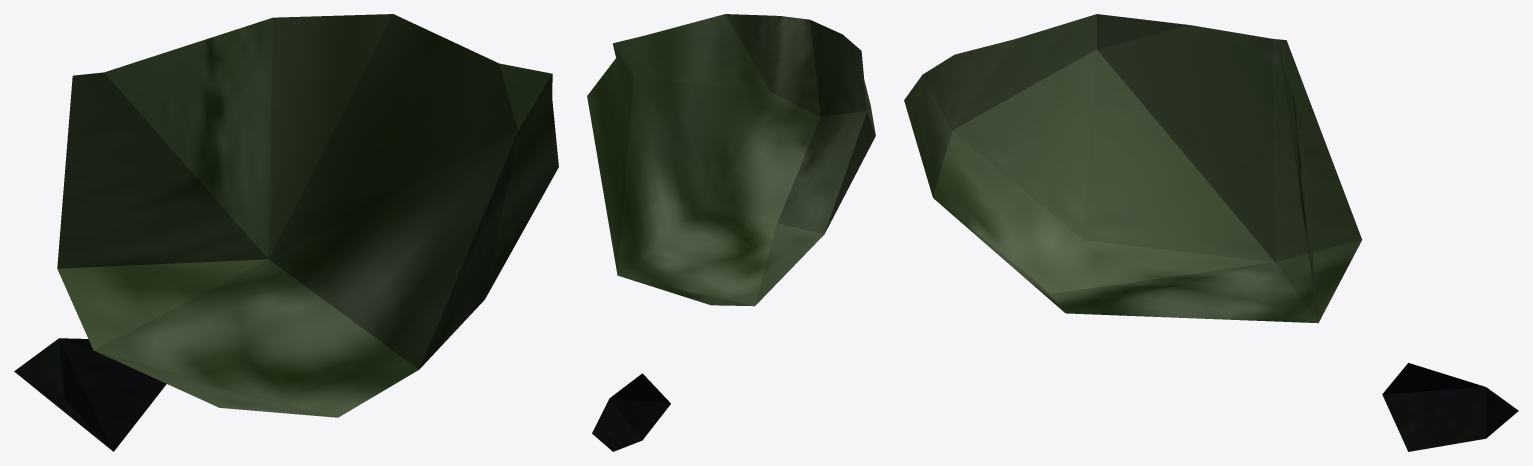
3 views of the same model, side by side, from view 1: azimuth 30°, elevation 25°; view 2: azimuth 150°, elevation 25°; view 3: azimuth 270°, elevation 25° (orthographic). The views are drawn at different scales.
Size of the model in its own units: 0.3991 by 0.4015 by 0.6109.
1 material, 1 textured.
